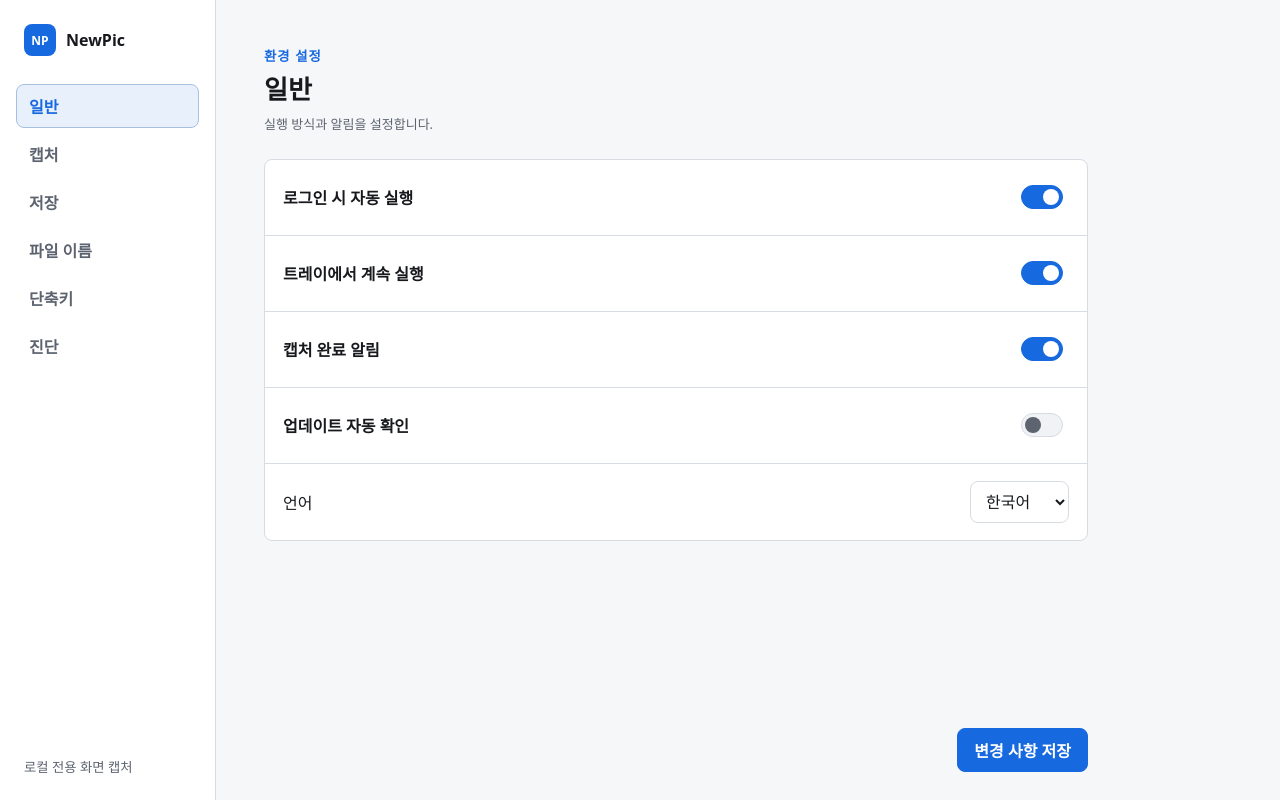
Test: NewPic settings › shows every approved default across the settings sections
Expected: the heading "일반" is shown, [264,71,312,107]
Expected: the checkbox named "로그인 시 자동 실행" is checked, [1021,185,1063,209]
Click the button "캡처".
click(108, 154)  # box [16,132,199,176]
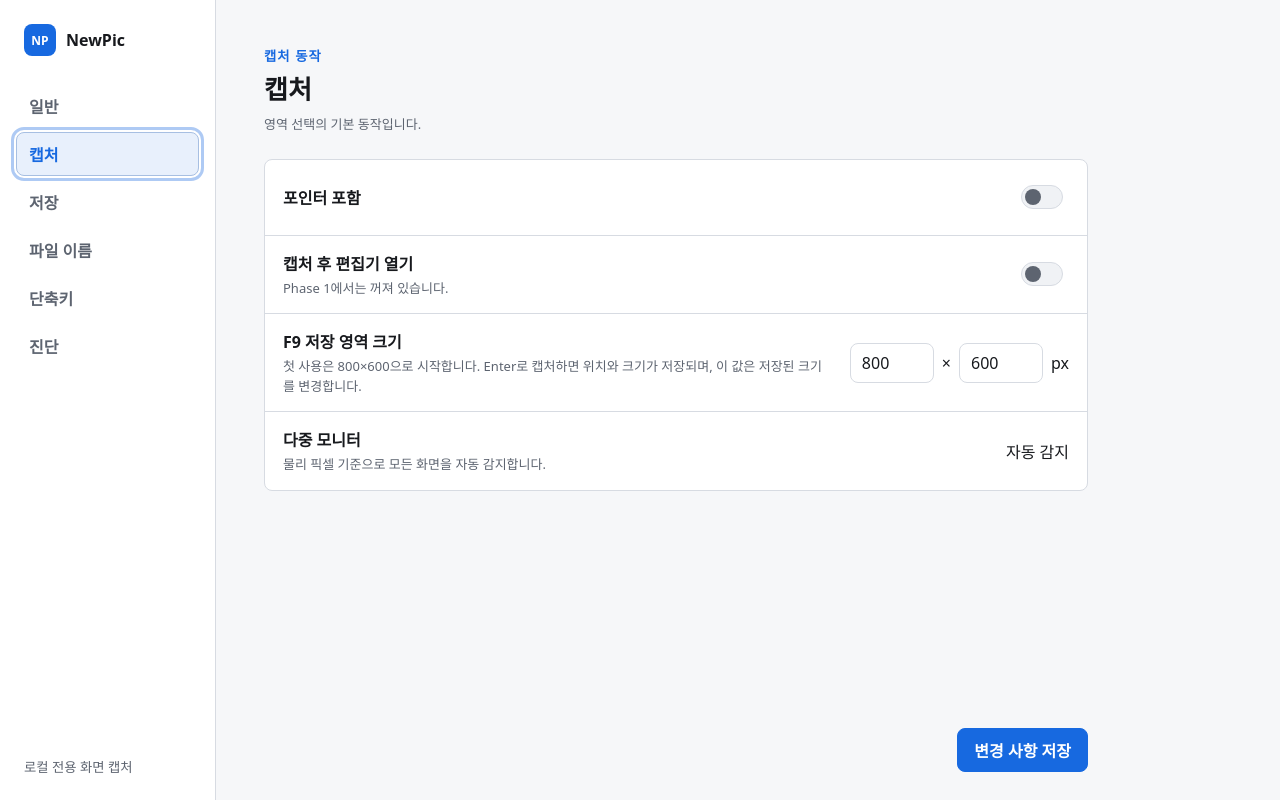
Expected: the checkbox named "포인터 포함" is not checked, [1021,185,1063,209]
Expected: the text "F9 저장 영역 크기" is shown, [283,331,402,353]
Expected: the text "첫 사용은 800×600으로 시작합니다. Enter로 캡처하면 위치와 크기가 저장되며, 이 값은 저장된 크기를 변경합니다." is shown, [283,357,826,396]
Click the button "저장".
click(108, 202)  # box [16,180,199,224]
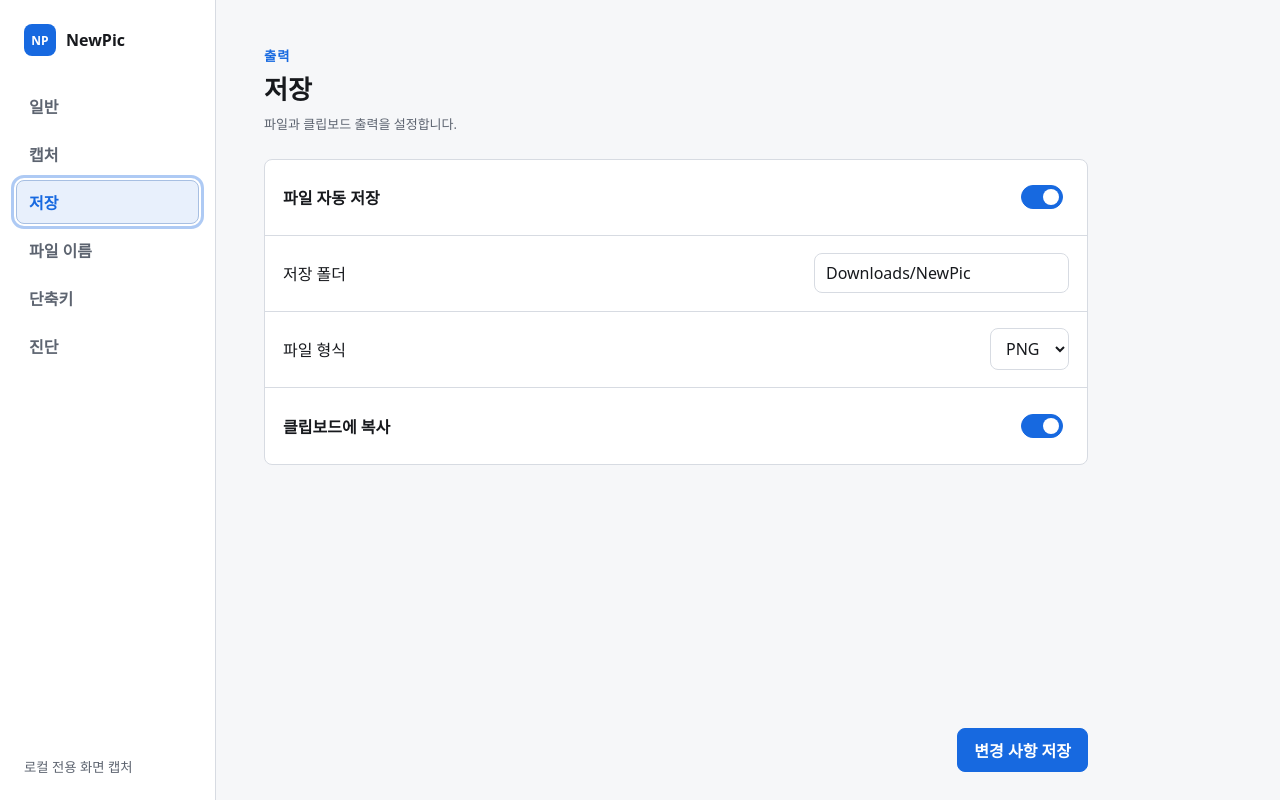
Expected: the checkbox named "파일 자동 저장" is checked, [1021,185,1063,209]
Expected: the checkbox named "클립보드에 복사" is checked, [1021,414,1063,438]
Expected: the field labelled "저장 폴더" holds "Downloads/NewPic", [814,253,1069,293]
Click the button "단축키".
click(108, 298)  # box [16,276,199,320]
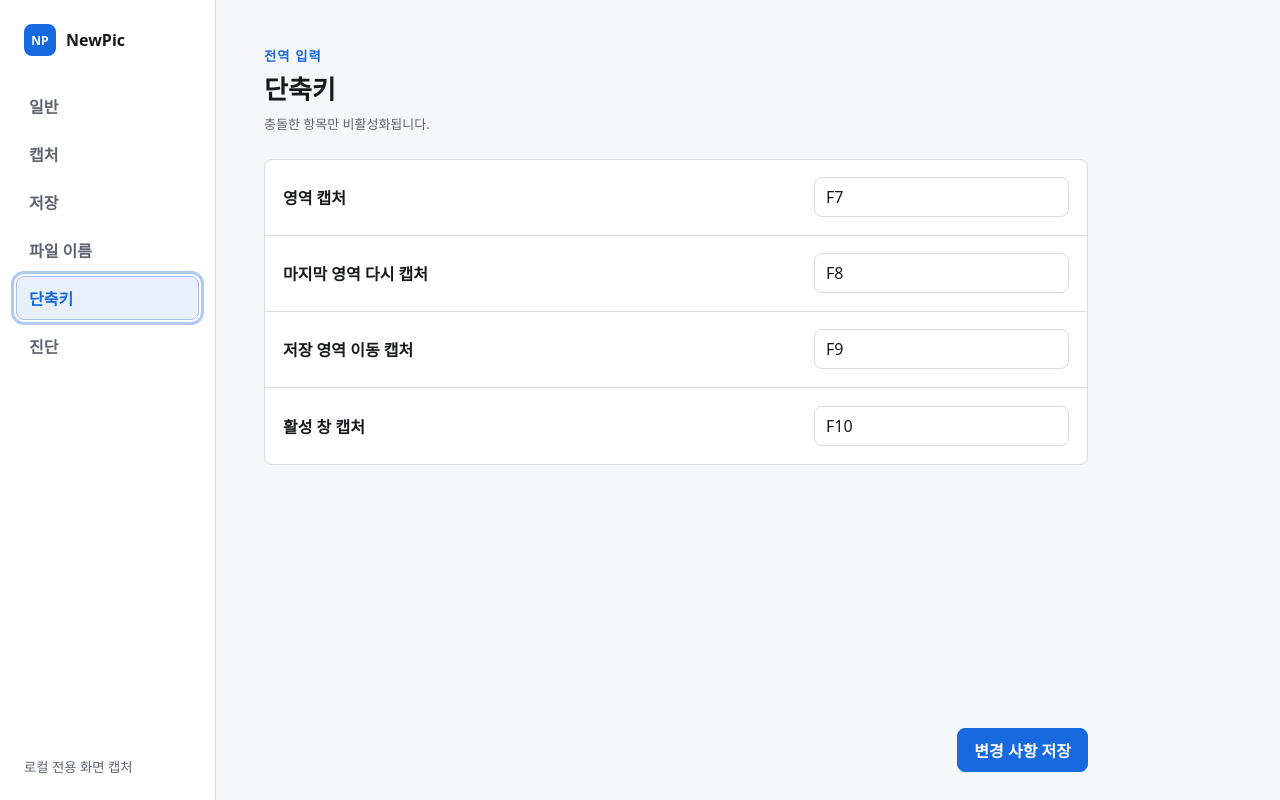
Expected: the field named "영역 캡처 단축키" holds "F7", [814,177,1069,217]
Expected: the field named "마지막 영역 다시 캡처 단축키" holds "F8", [814,253,1069,293]
Expected: the field named "저장 영역 이동 캡처 단축키" holds "F9", [814,329,1069,369]
